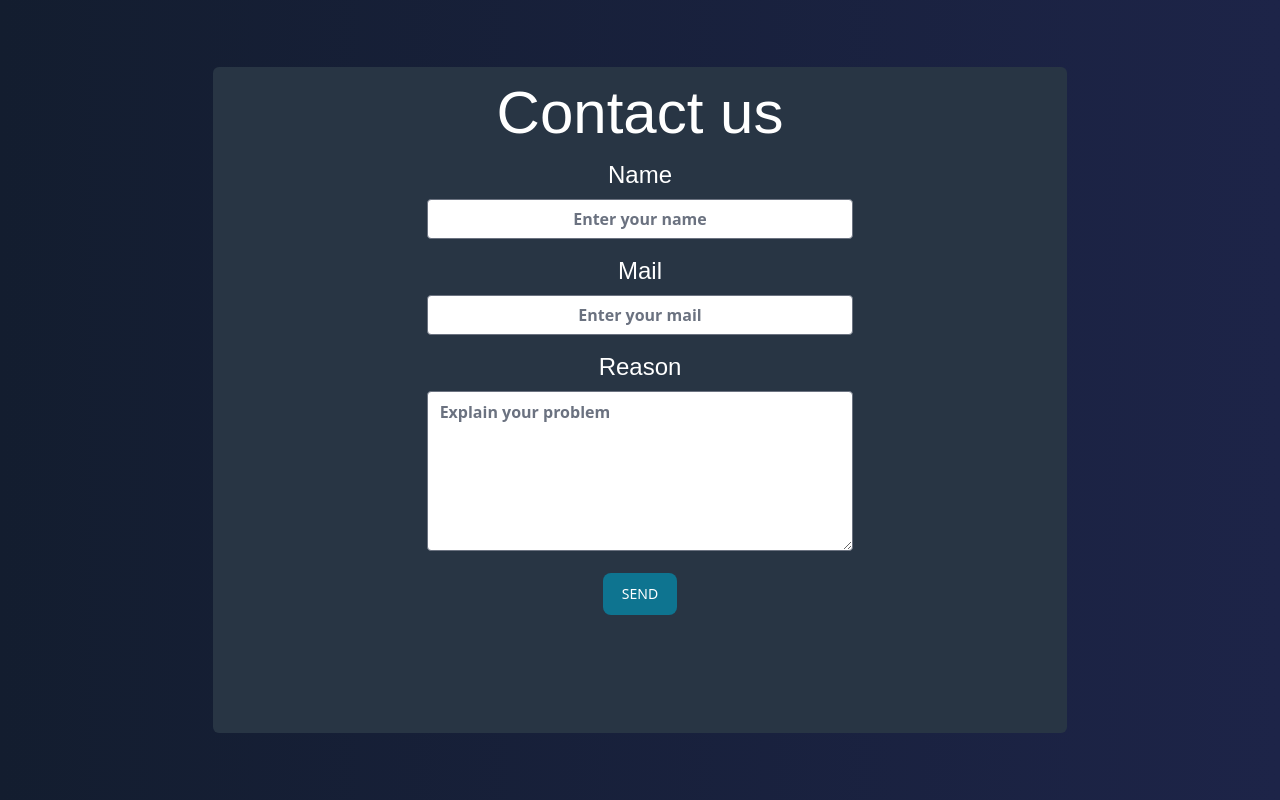
Test case: Contact page › with invalid name › renders the name validation error
Click the button.
click(640, 594)  # box [603,573,677,615]
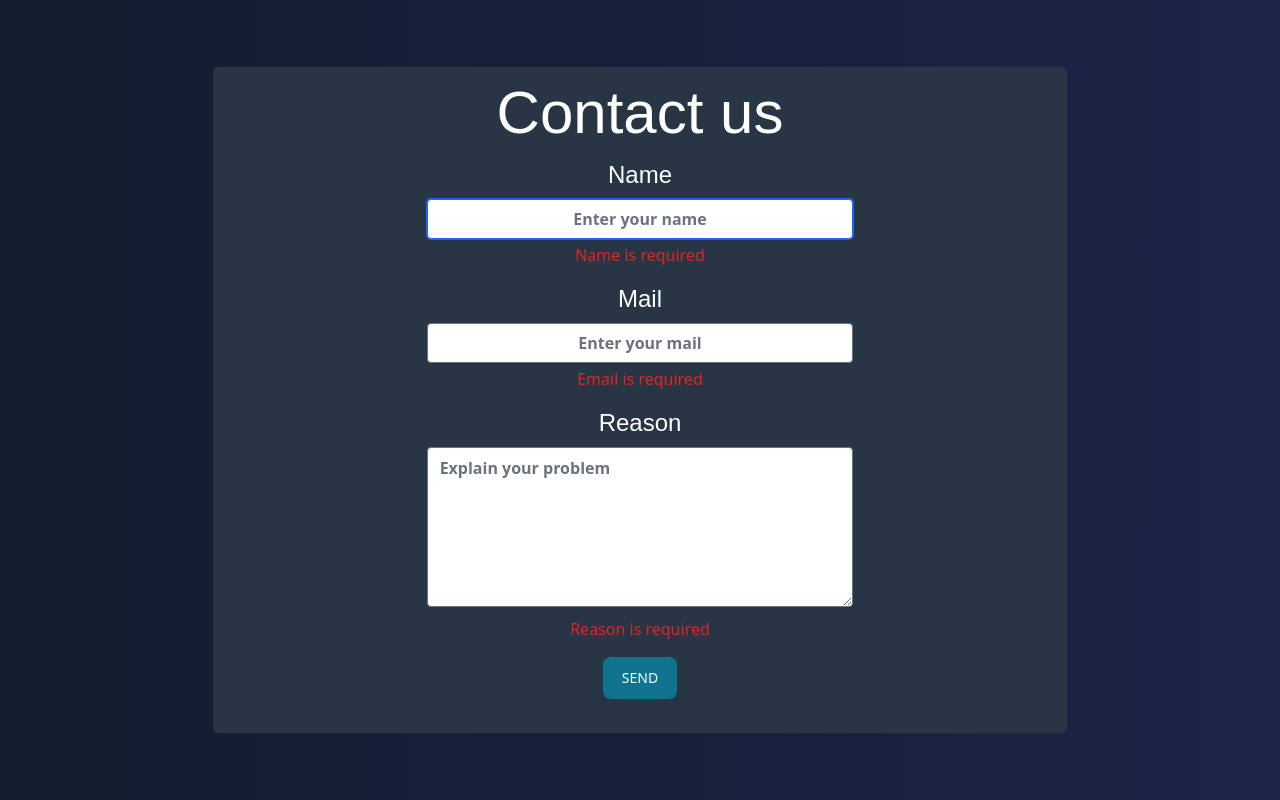
Now the text "Name is required" is shown, box [575,244,705,266]
